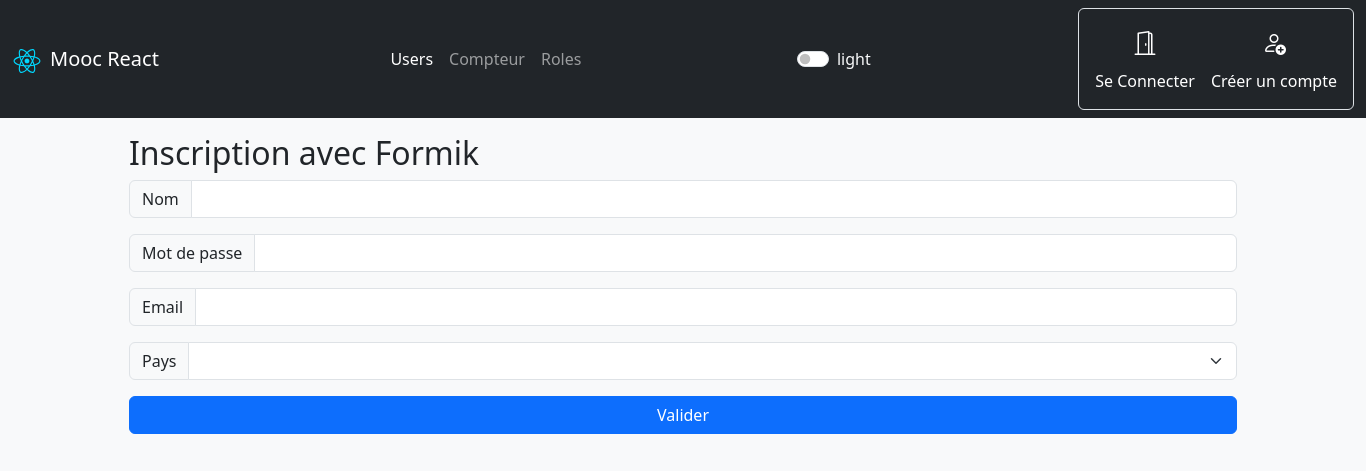
Register › devrait afficher une erreur si le email est invalide
Type "T" into the field with id "email" at (716, 307), box [195,288,1237,326]
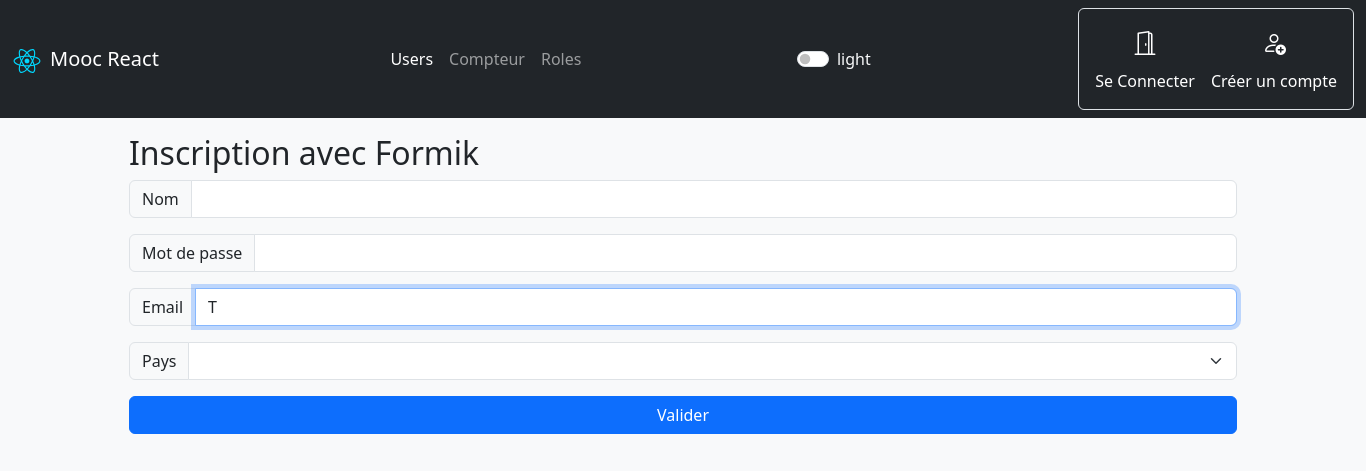
Click the submit button at (683, 415), box [129,396,1237,434]
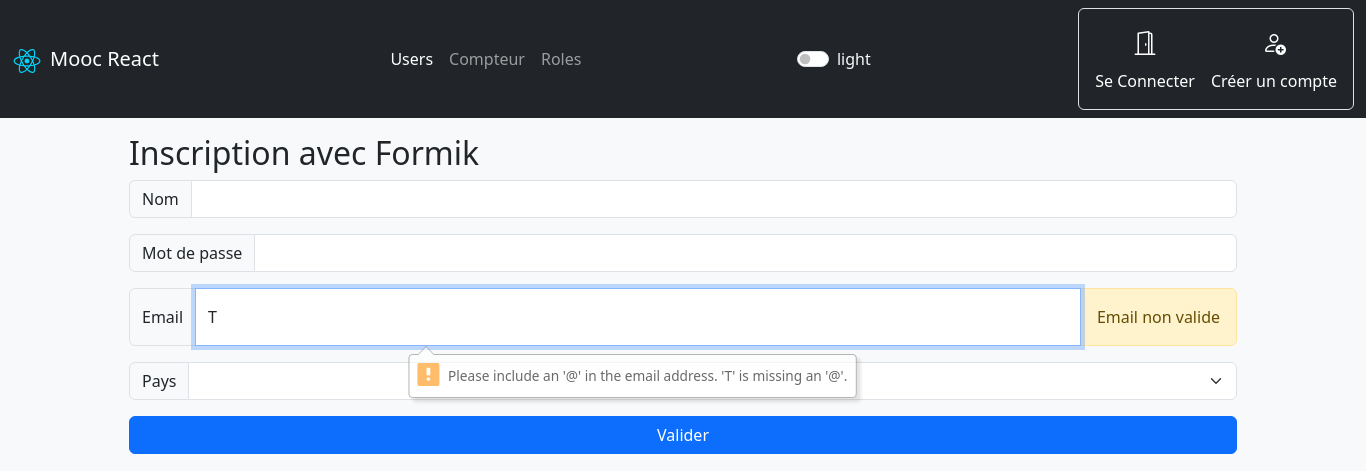
Result: the text "Email non valide" is shown at [1080,288,1237,346]
